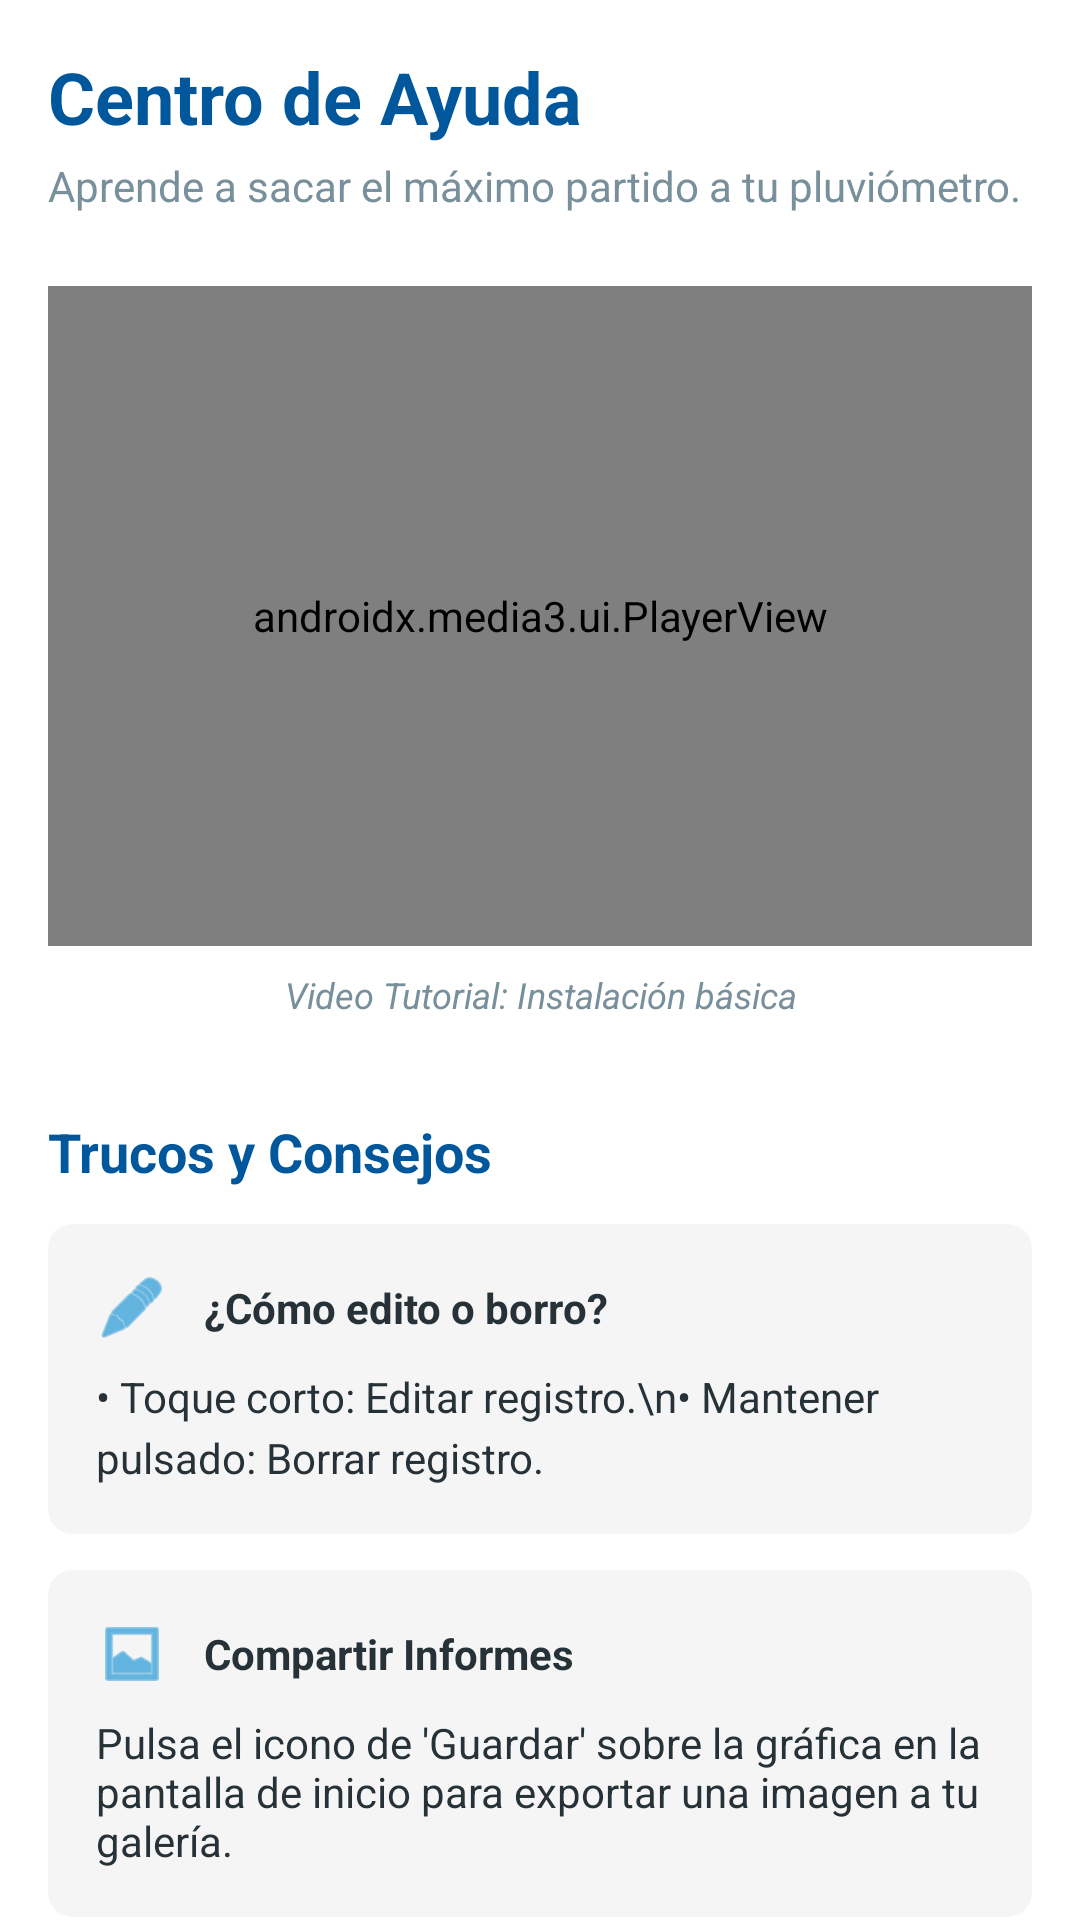

Screen size 1080*1920. Icon name, then its center in pixels as (x=x, y=y):
gallery: (x=132, y=1654)
